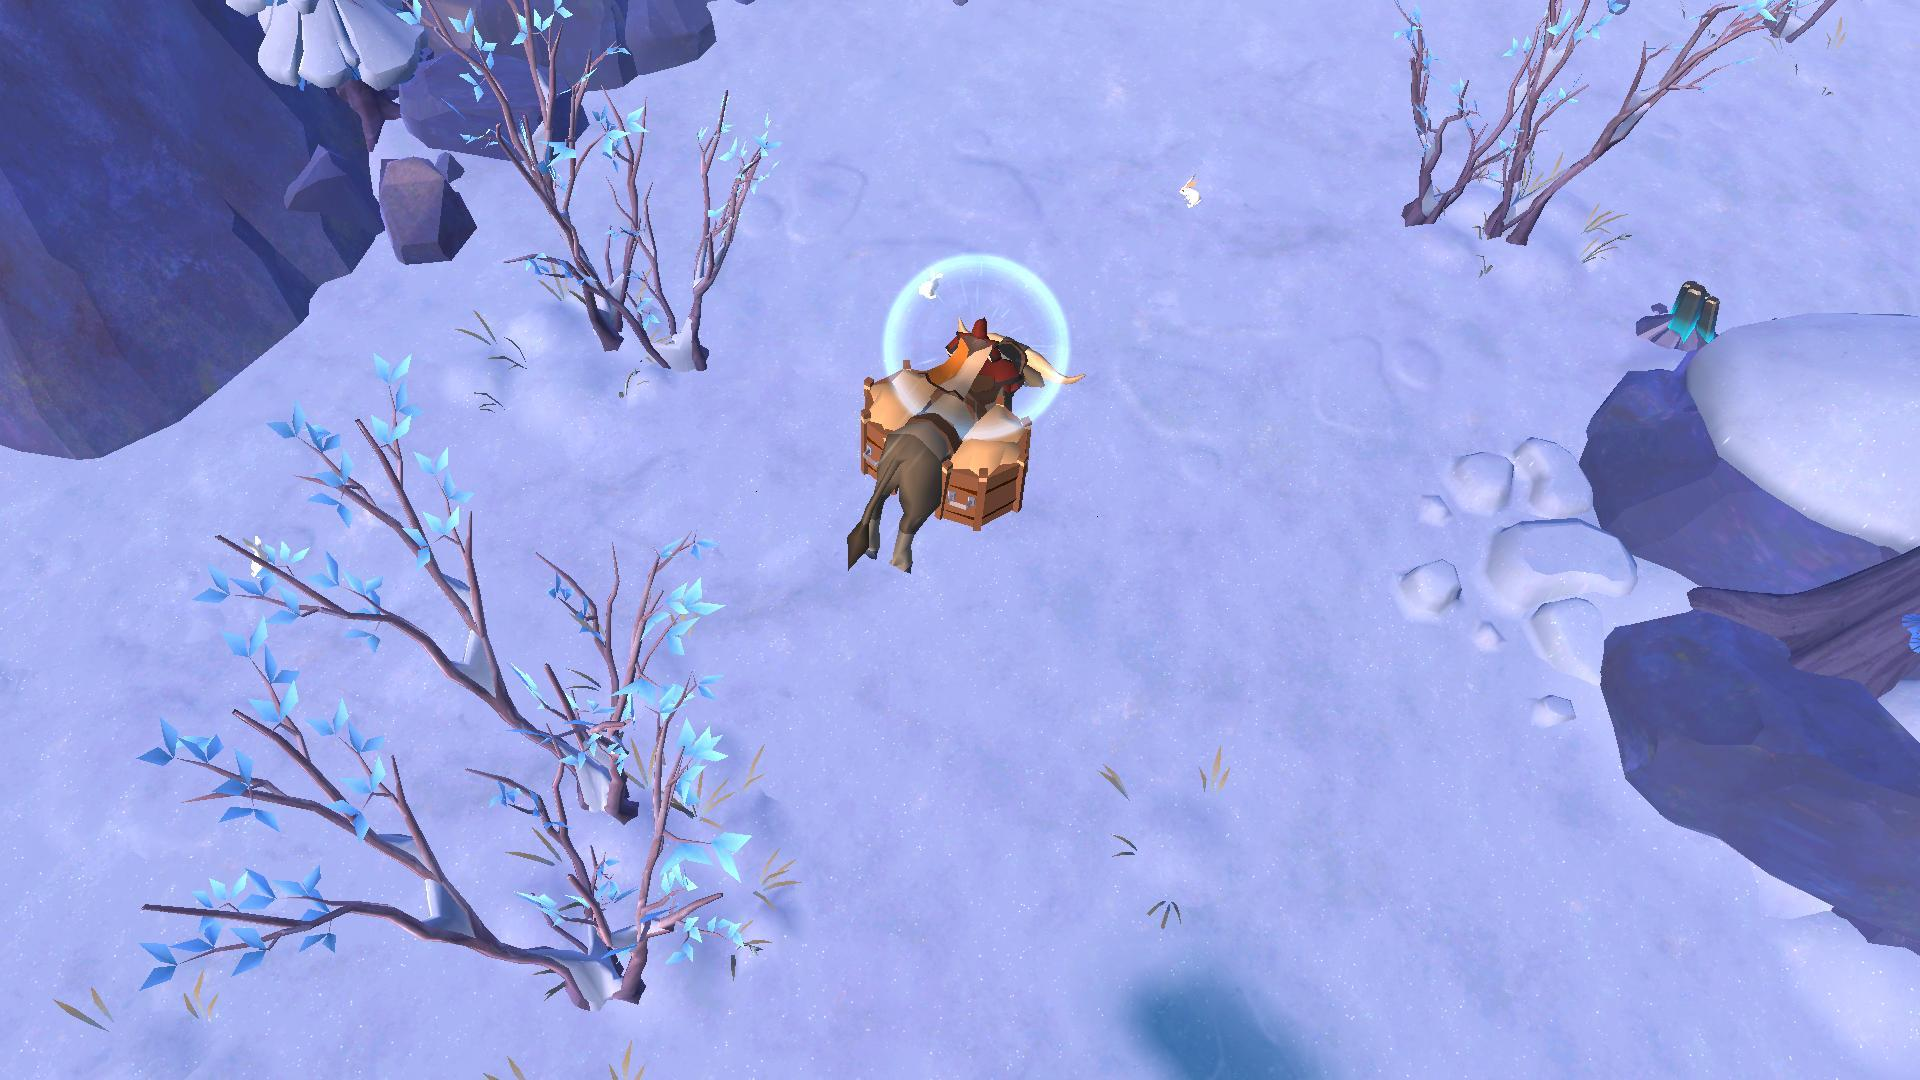ore_t4: (1660, 269, 1727, 348)
